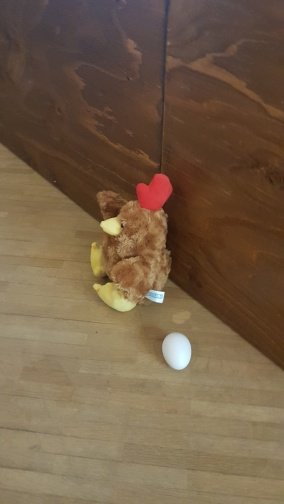chicken: (88, 171, 174, 314)
egg: (160, 330, 194, 372)
